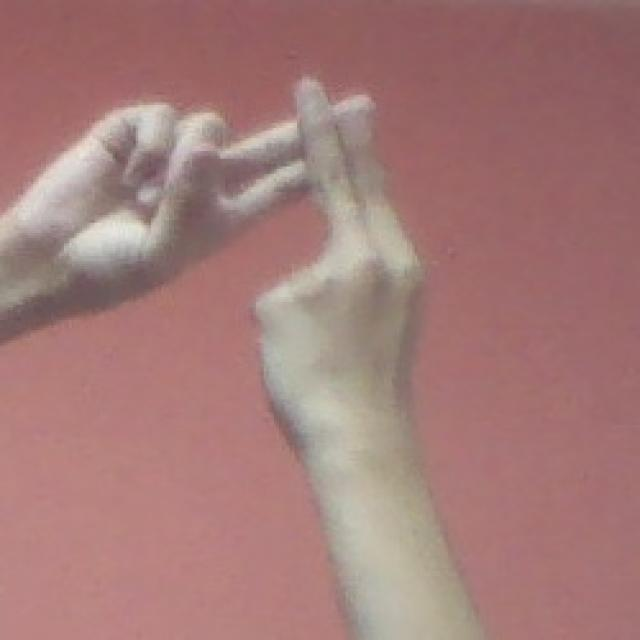Alphabet-F: (43, 76, 441, 457)
